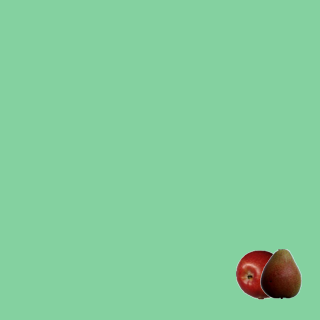Apple Braeburn: (235, 249, 285, 299)
Pear Forelle: (255, 248, 305, 298)
